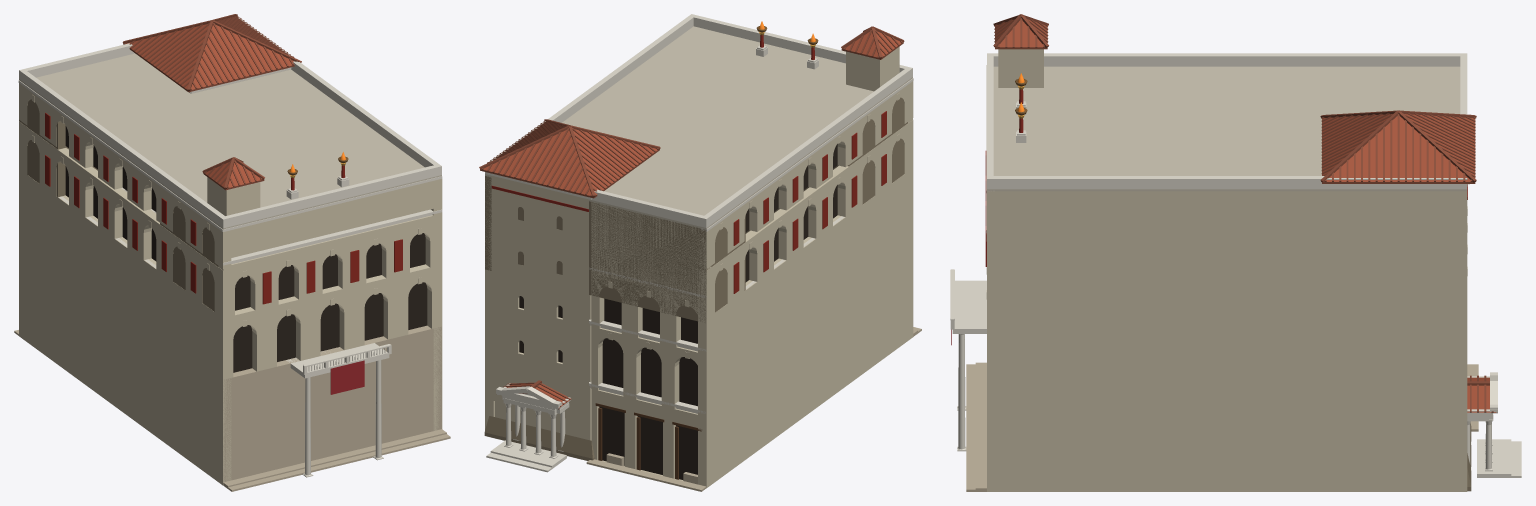
File: rome_circus_end_l.glb
3 views of the same model, side by side, from view 1: azimuth 30°, elevation 25°; view 2: azimuth 150°, elevation 25°; view 3: azimuth 270°, elevation 25° (orthographic). The views are drawn at different scales.
Parts seen in each view (by area): view 1: rome_circus_end_l; view 2: rome_circus_end_l; view 3: rome_circus_end_l.
Part boxes in pixels (<box>): rome_circus_end_l: <box>14,14,450,491</box>; rome_circus_end_l: <box>479,14,921,491</box>; rome_circus_end_l: <box>950,14,1521,491</box>.
Size of the model in its own units: 26.44 by 35.32 by 49.94.
